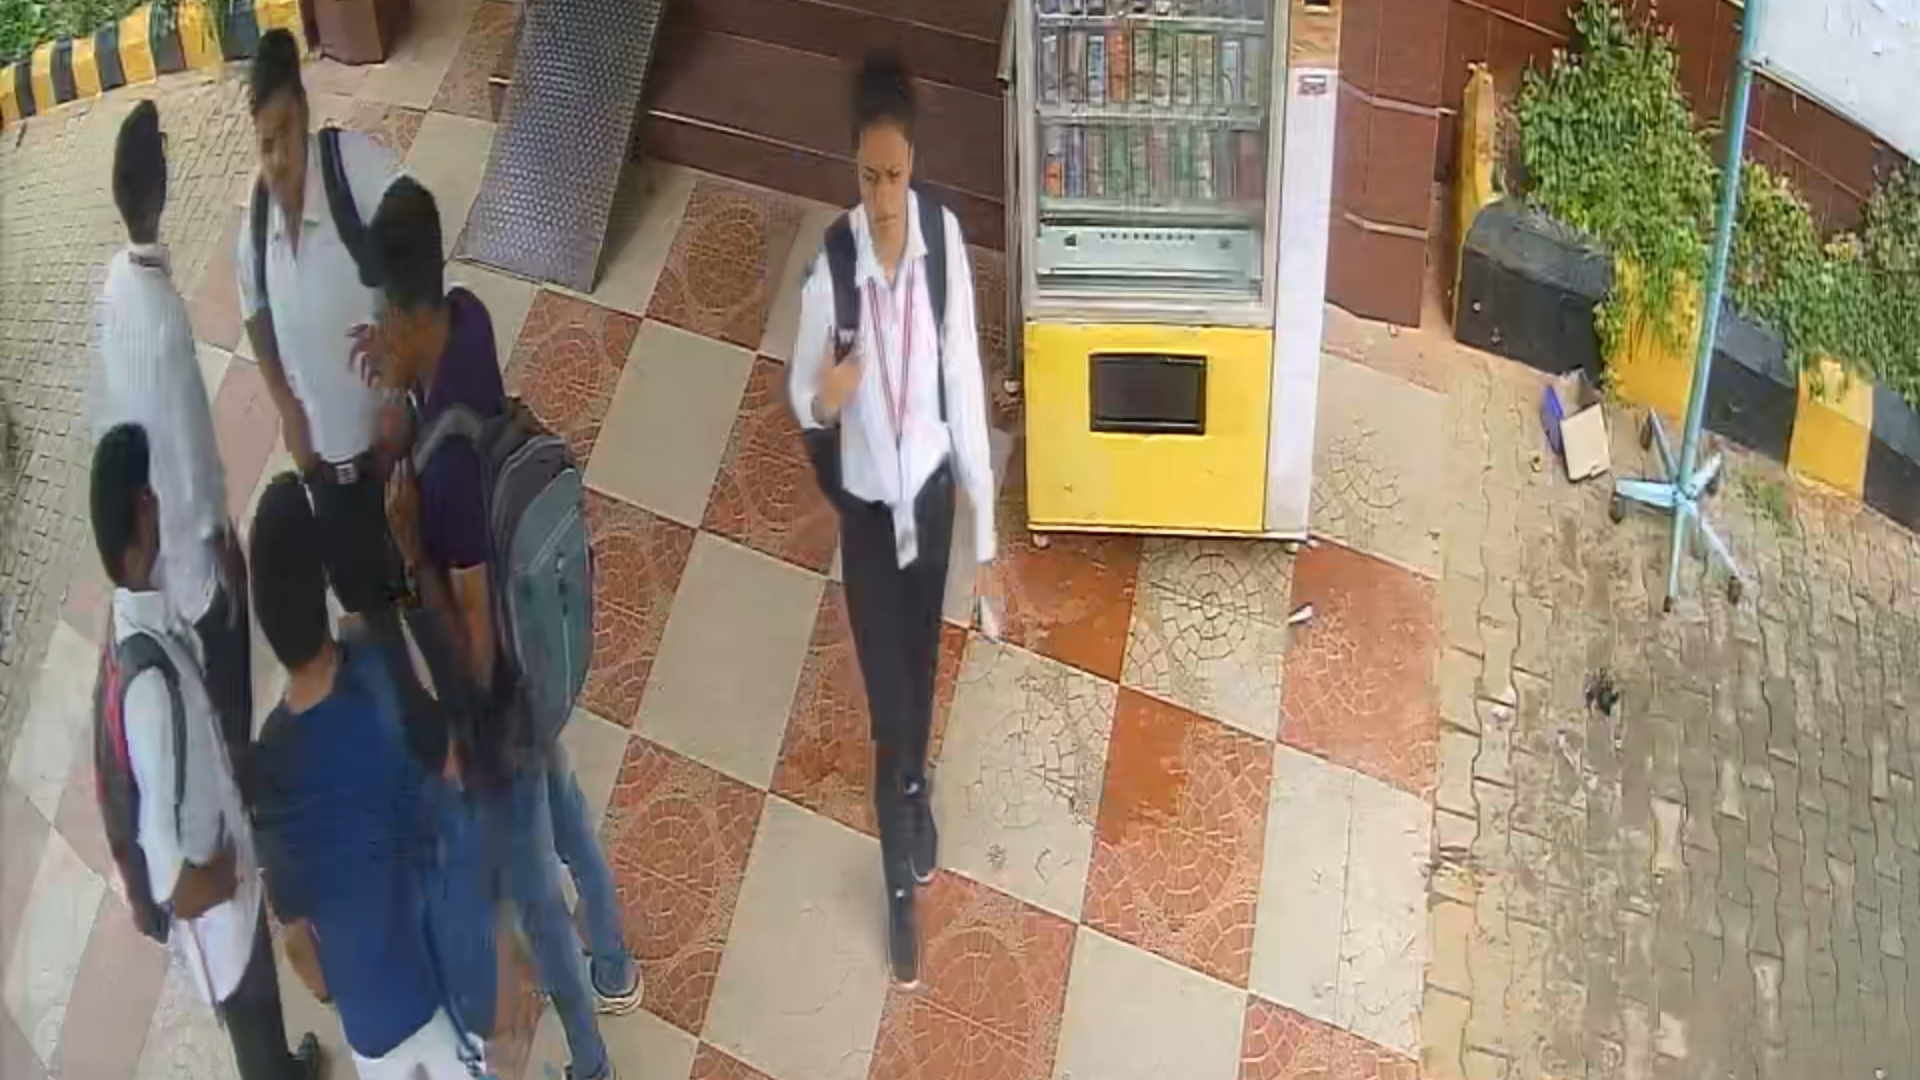not intruder: (778, 54, 1005, 993)
